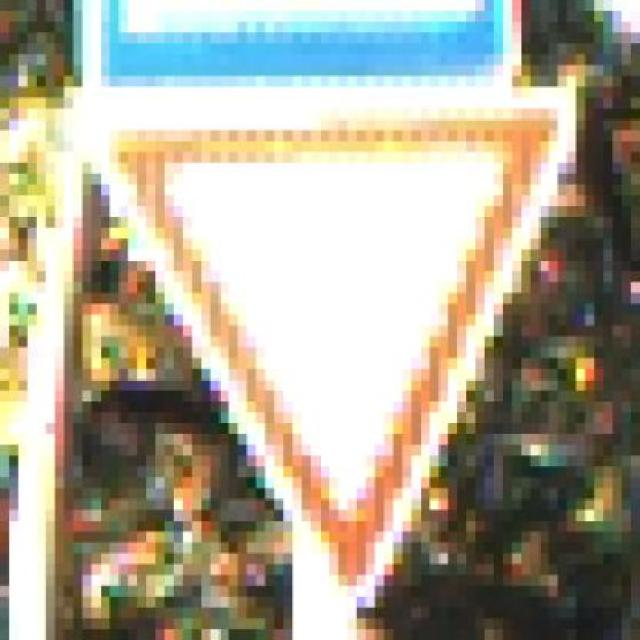Give Way: (64, 74, 613, 628)
